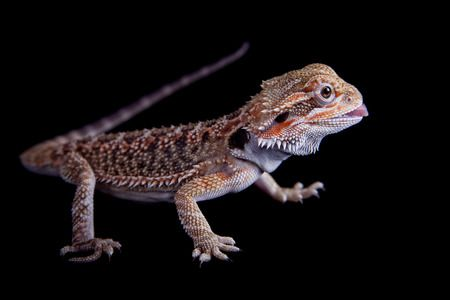bearded: (16, 41, 368, 272)
